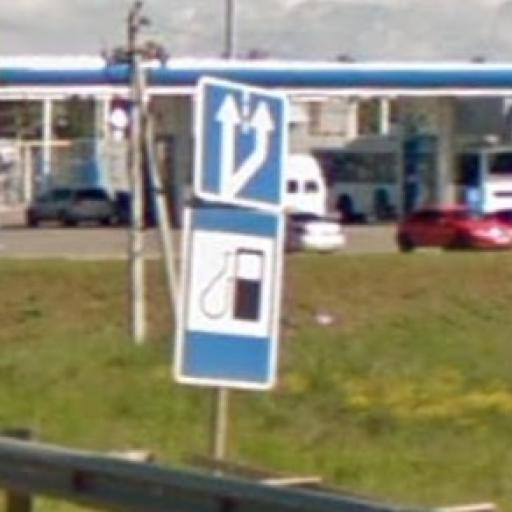traffic_sign: (175, 185, 289, 394)
